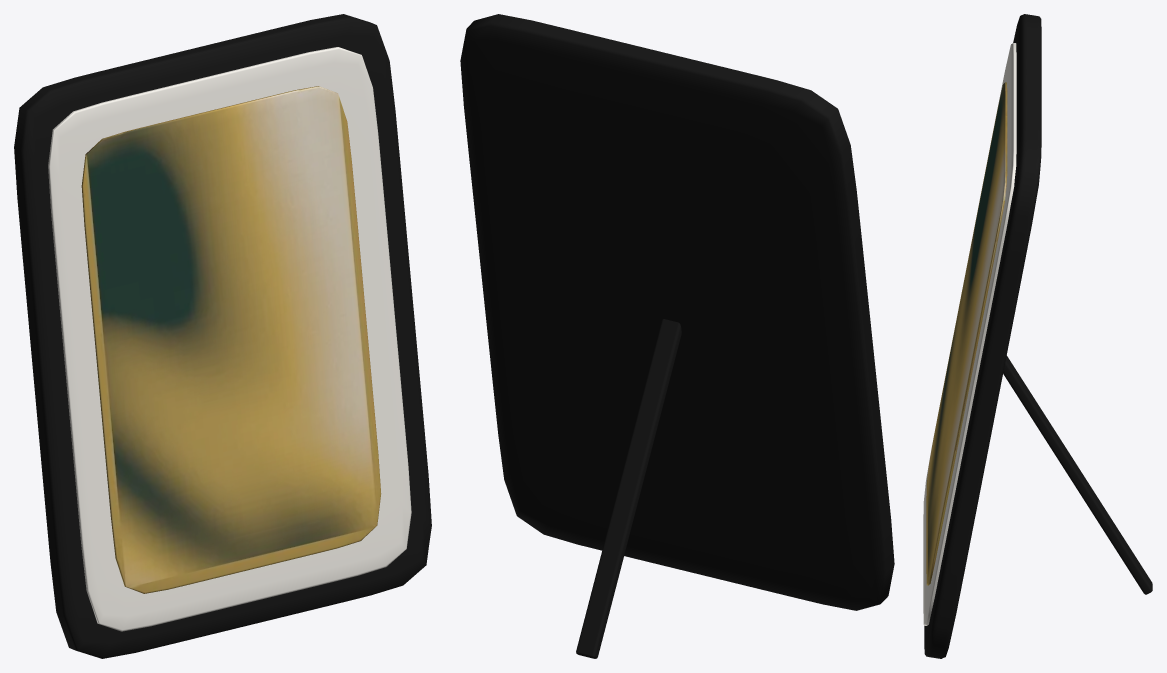
File: black-print.glb
3 renders of one model, left to right at view 1: azimuth 30°, elevation 25°; view 2: azimuth 150°, elevation 25°; view 3: azimuth 270°, elevation 25°, orthographic. The views are drawn at different scales.
Parts seen in each view (by area): view 1: artwork_1, mat_board, frame_black; view 2: frame_black; view 3: frame_black, artwork_1, mat_board.
Boxes of the visible parts, bbox=[...] form: artwork_1: bbox=[81, 86, 381, 593]; mat_board: bbox=[48, 47, 411, 631]; frame_black: bbox=[14, 14, 431, 658]; frame_black: bbox=[460, 14, 894, 658]; frame_black: bbox=[924, 14, 1152, 658]; artwork_1: bbox=[926, 82, 1007, 585]; mat_board: bbox=[923, 43, 1016, 625].
Size of the model in its own units: 0.5 by 0.6927 by 0.2823.
Materials: 3 (1 with a texture image).
